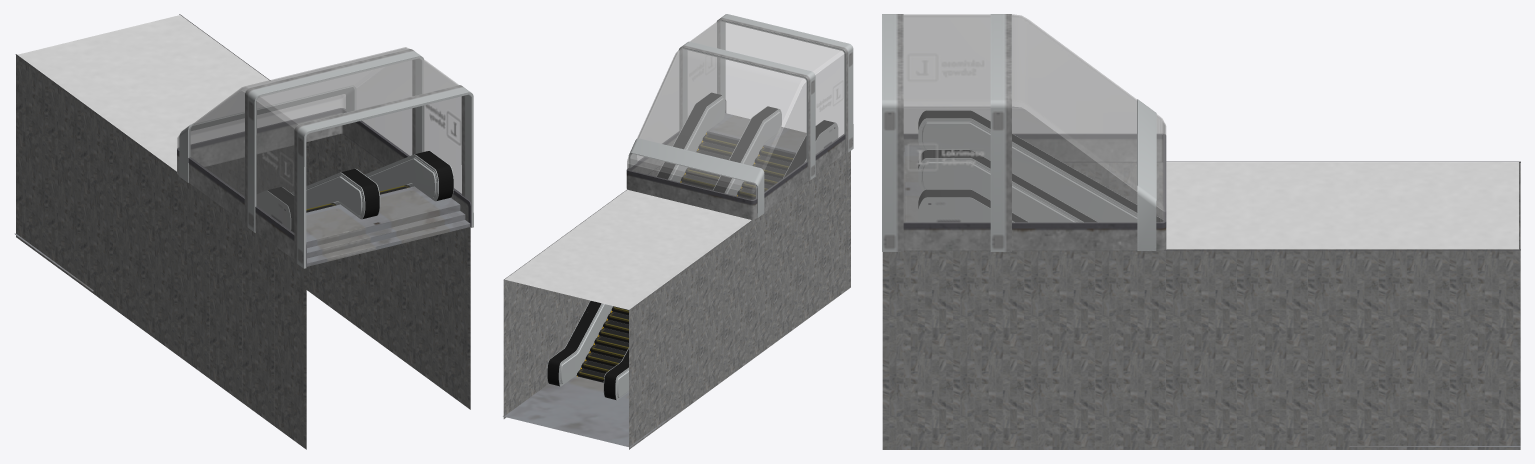
Rendered from gongdeok-entrance.glb.
The picture shows the model from 3 angles, left to right: view 1: azimuth 30°, elevation 25°; view 2: azimuth 150°, elevation 25°; view 3: azimuth 270°, elevation 25°; orthographic projection. The views are drawn at different scales.
Visible parts, largest first — view 1: Wall, Glass, Floor, Opora_low, Fundament, Steps_low, HandlerLeft_low.001, Handler_Center_low, Opora_low.001, HandlerLeft_low.002, rubber.001, rubber.002; view 2: Wall, Glass, Floor, Opora_low, Floor_Underground, Fundament, Auto_Steps_low, Opora_low.001, HandlerLeft_low.001, rubber.002, Handler_Center_low, rubber.001 (+3 smaller); view 3: Wall, Glass, Floor, Opora_low, Fundament, HandlerLeft_low.001, Handler_Center_low, Opora_low.001, HandlerLeft_low.002, rubber.003, Steps_low, rubber.001 (+2 smaller).
Boxes of the visible parts, <box> form: Wall: <box>16,15,470,449</box>; Glass: <box>177,47,461,234</box>; Floor: <box>17,15,269,171</box>; Opora_low: <box>244,49,473,268</box>; Fundament: <box>177,108,471,267</box>; Steps_low: <box>306,186,470,266</box>; HandlerLeft_low.001: <box>282,154,438,201</box>; Handler_Center_low: <box>291,168,380,219</box>; Opora_low.001: <box>179,85,355,182</box>; HandlerLeft_low.002: <box>256,150,453,229</box>; rubber.001: <box>341,169,379,218</box>; rubber.002: <box>415,151,453,200</box>; Wall: <box>503,151,850,449</box>; Glass: <box>627,20,844,200</box>; Floor: <box>505,189,751,309</box>; Opora_low: <box>679,14,853,181</box>; Floor_Underground: <box>503,376,689,447</box>; Fundament: <box>626,99,845,219</box>; Auto_Steps_low: <box>577,134,794,382</box>; Opora_low.001: <box>628,138,764,217</box>; HandlerLeft_low.001: <box>558,95,823,386</box>; rubber.002: <box>547,92,721,386</box>; Handler_Center_low: <box>603,107,781,400</box>; rubber.001: <box>604,106,777,399</box>; Wall: <box>882,162,1520,449</box>; Glass: <box>903,14,1166,222</box>; Floor: <box>1166,162,1518,249</box>; Opora_low: <box>882,14,1011,251</box>; Fundament: <box>903,134,1166,250</box>; HandlerLeft_low.001: <box>918,118,1137,222</box>; Handler_Center_low: <box>918,149,1095,222</box>; Opora_low.001: <box>1137,99,1156,250</box>; HandlerLeft_low.002: <box>918,110,1159,222</box>; rubber.003: <box>918,110,1163,222</box>; Steps_low: <box>903,145,922,222</box>; rubber.001: <box>918,150,1096,222</box>.
Bounding box in the file's own units: 4.66 × 8.51 × 13.85.
Materials: 1 (1 with a texture image).
